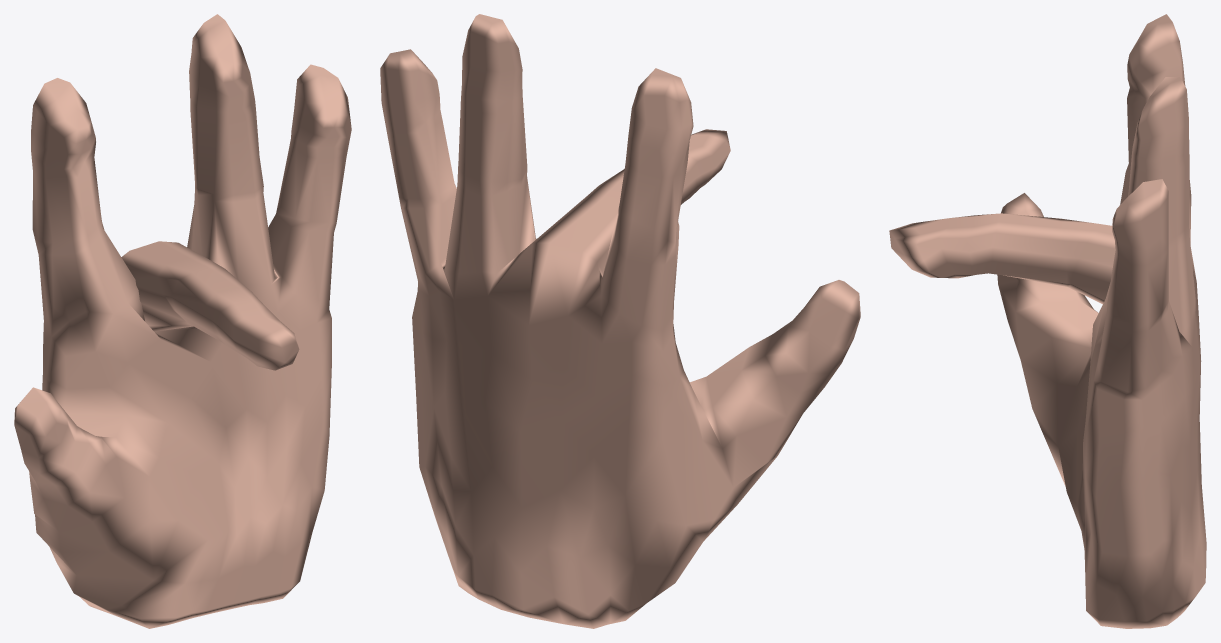
File: MAO_JESUS.obj
3 views of the same model, side by side, from view 1: azimuth 30°, elevation 25°; view 2: azimuth 150°, elevation 25°; view 3: azimuth 270°, elevation 25° (orthographic). The views are drawn at different scales.
Parts seen in each view (by area): view 1: mao_dir polySurface1; view 2: mao_dir polySurface1; view 3: mao_dir polySurface1.
Part boxes in pixels (x1,y1,x2,y2): mao_dir polySurface1: (14, 14, 351, 628); mao_dir polySurface1: (380, 14, 860, 628); mao_dir polySurface1: (889, 14, 1206, 628).
Bounding box in the file's own units: 172 × 234 × 125.
